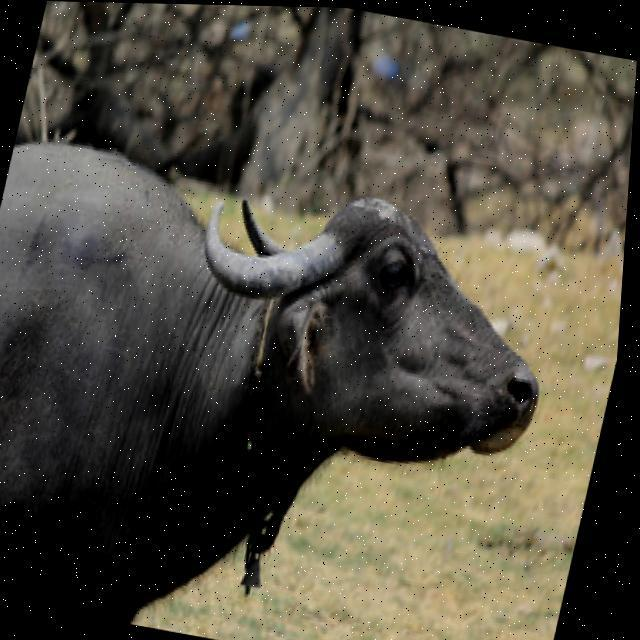Buffalo: (0, 120, 585, 640)
